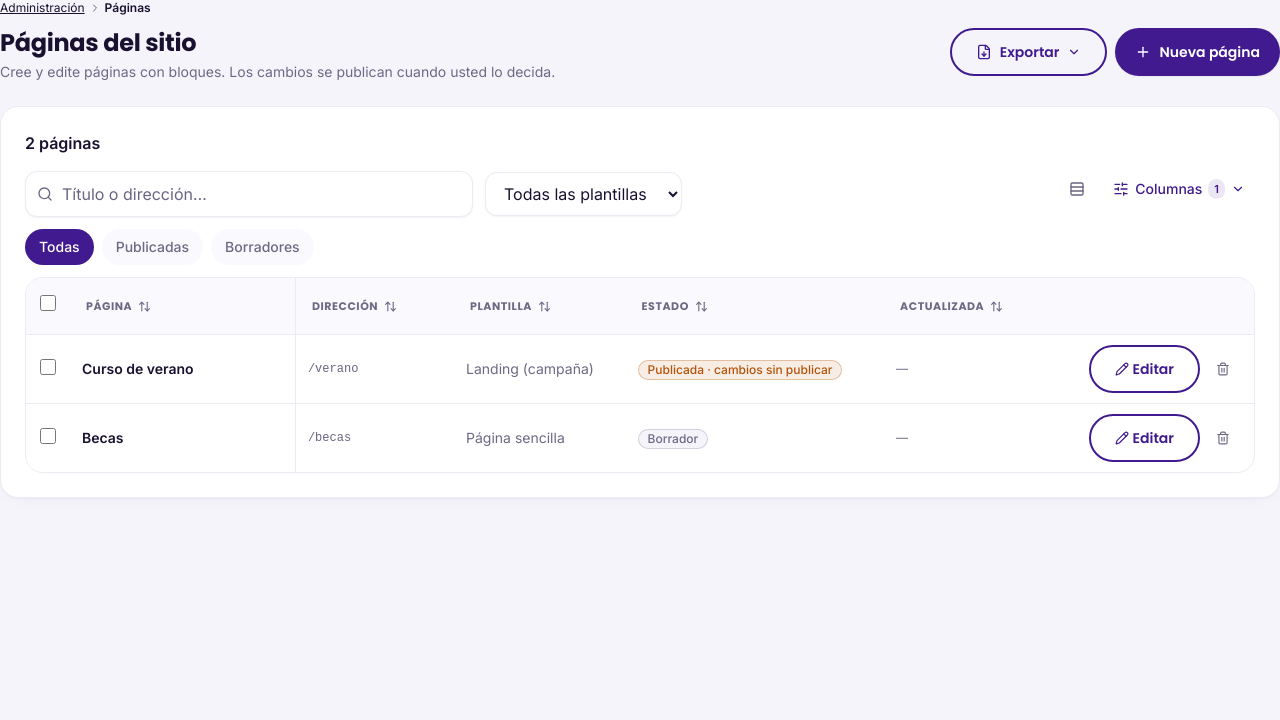
AdminPages › bulk publish runs the dry run first and reports rows that fail the checks
This screenshot has width=1280, height=720.
Expected: the link "Becas" is shown, [82, 429, 124, 446]
Click the checkbox named "Seleccionar todas las filas de esta página" at (48, 303), box [40, 295, 56, 311]
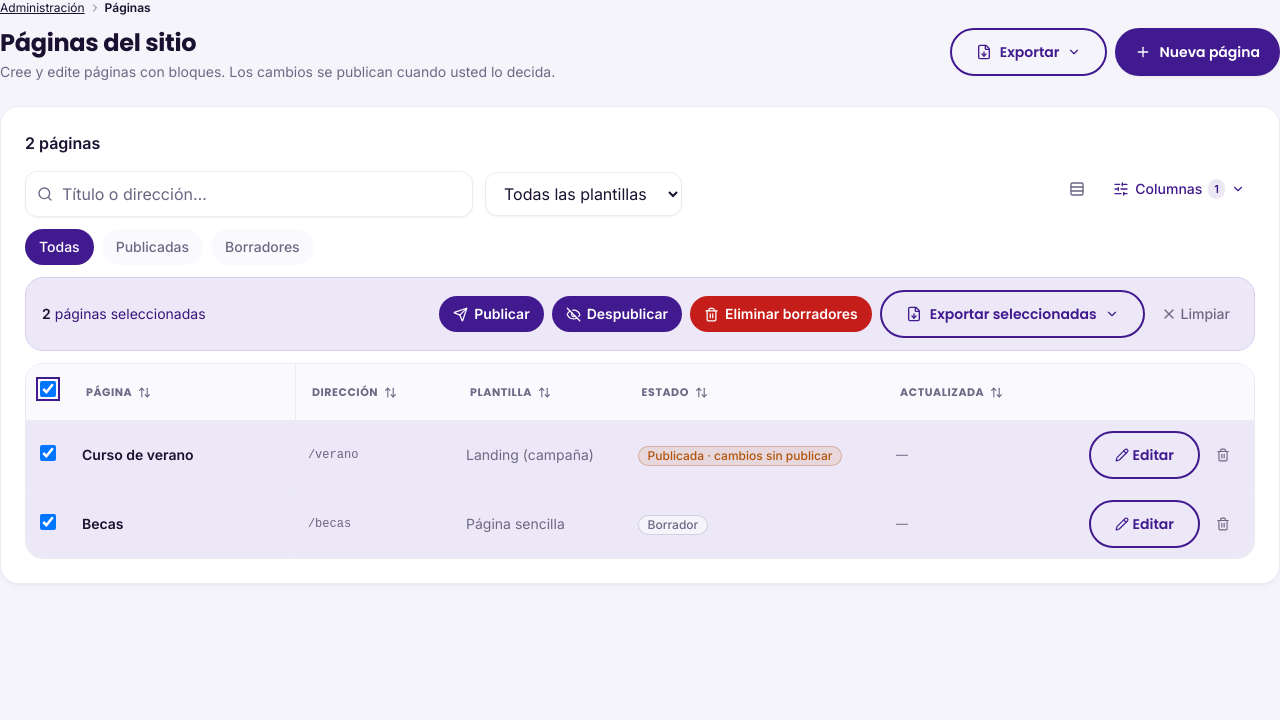
Click the button "Publicar" at (491, 314), box [439, 296, 544, 332]
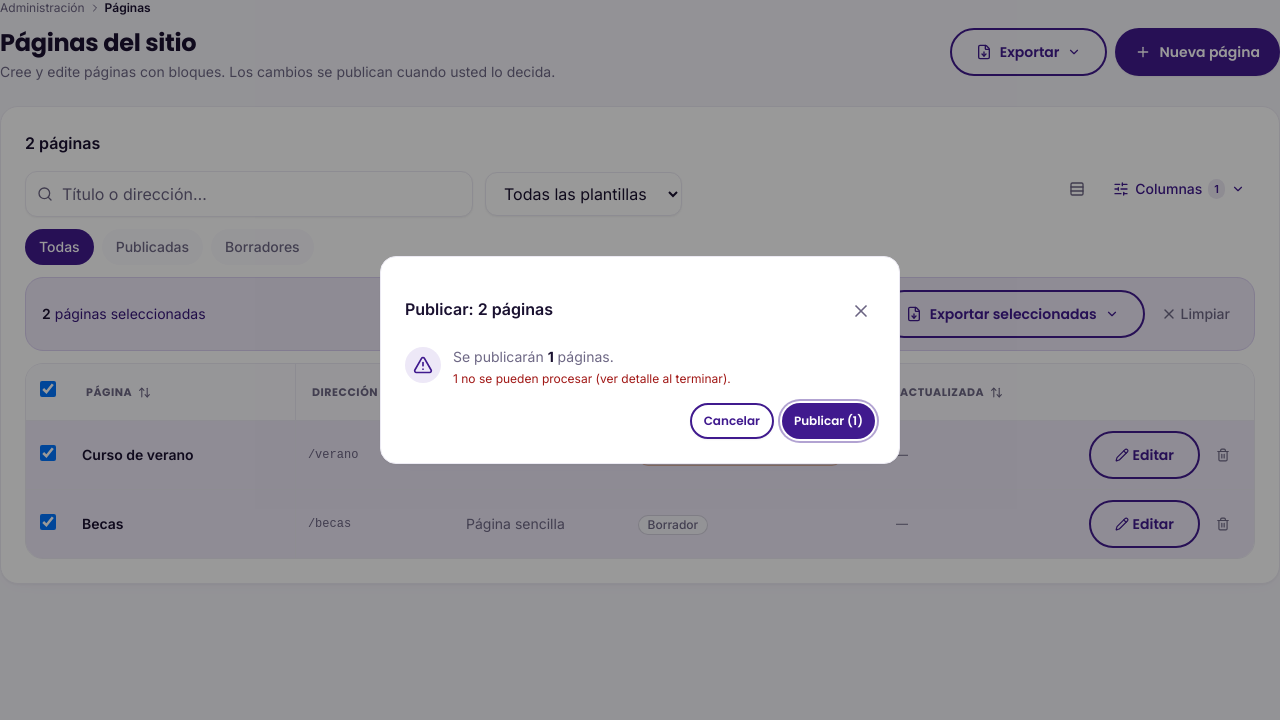
Now the text "1 no se pueden procesar (ver detalle al terminar)." is shown, box [453, 371, 731, 387]
Click the button "Publicar (1)" at (828, 421), box [782, 403, 875, 439]
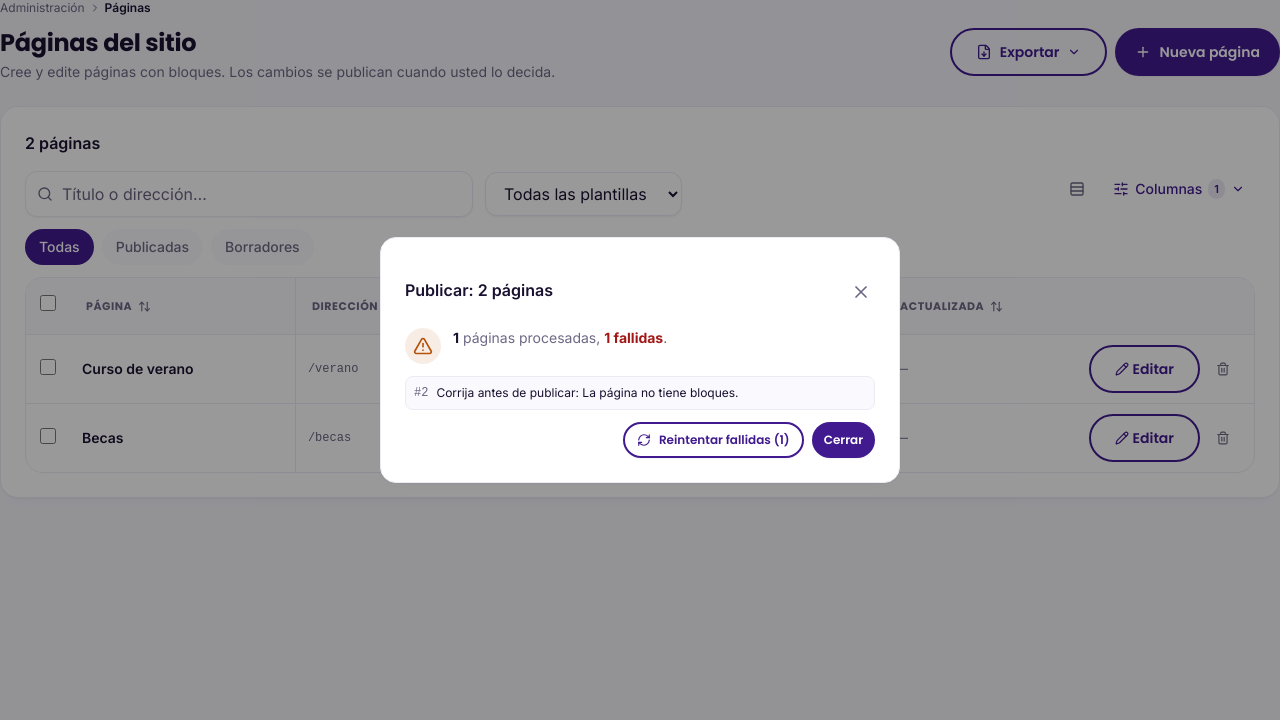
Now the text "Corrija antes de publicar: La página no tiene bloques." is shown, box [436, 385, 739, 401]
